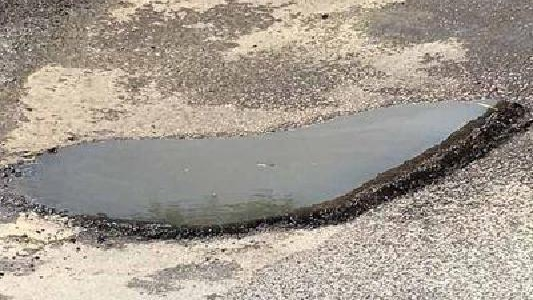pothole: (0, 93, 528, 243)
